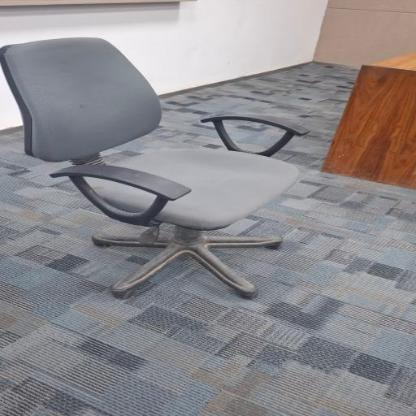chair: (0, 26, 318, 303)
